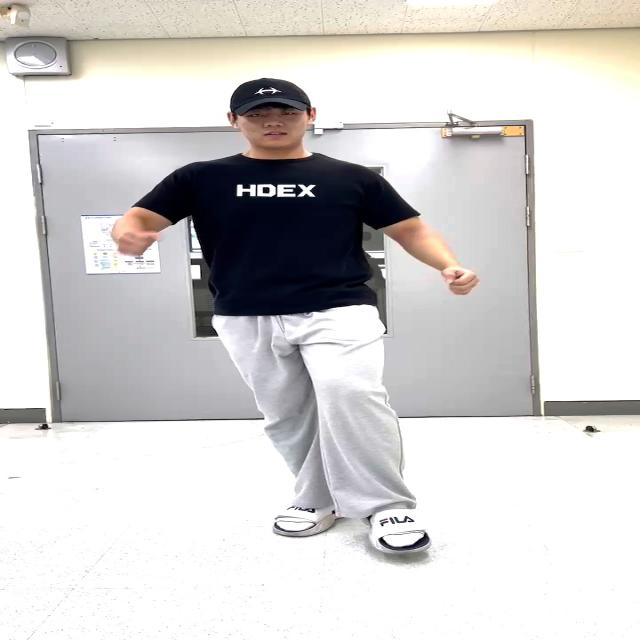leg: (309, 322, 422, 546)
